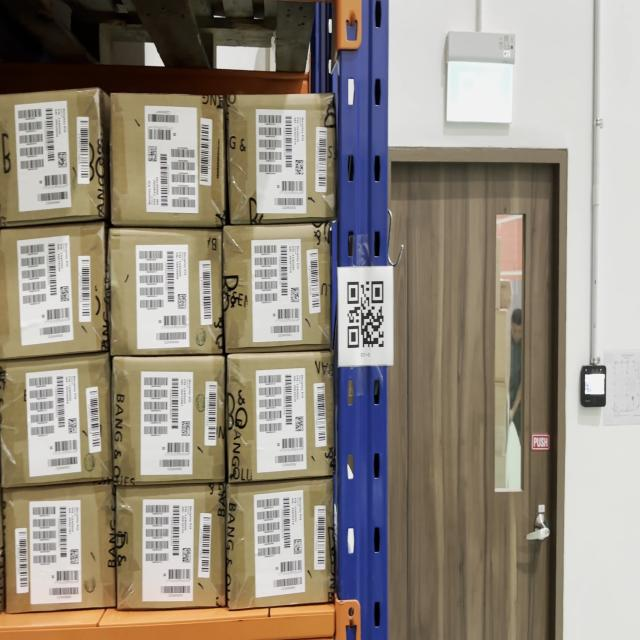box: (113, 355, 224, 484), (110, 96, 222, 221), (110, 232, 220, 351), (6, 492, 114, 611), (227, 487, 333, 604), (232, 100, 333, 221), (118, 488, 224, 601), (230, 359, 332, 476), (225, 234, 333, 344)
